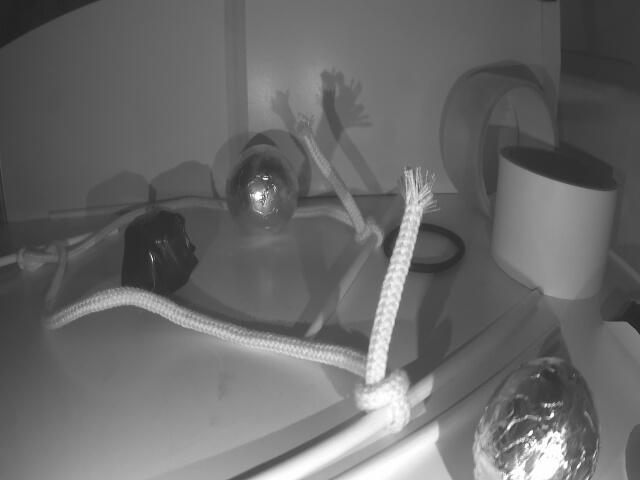Dead: (127, 211, 199, 295)
Live: (473, 359, 603, 480), (225, 147, 299, 231)
